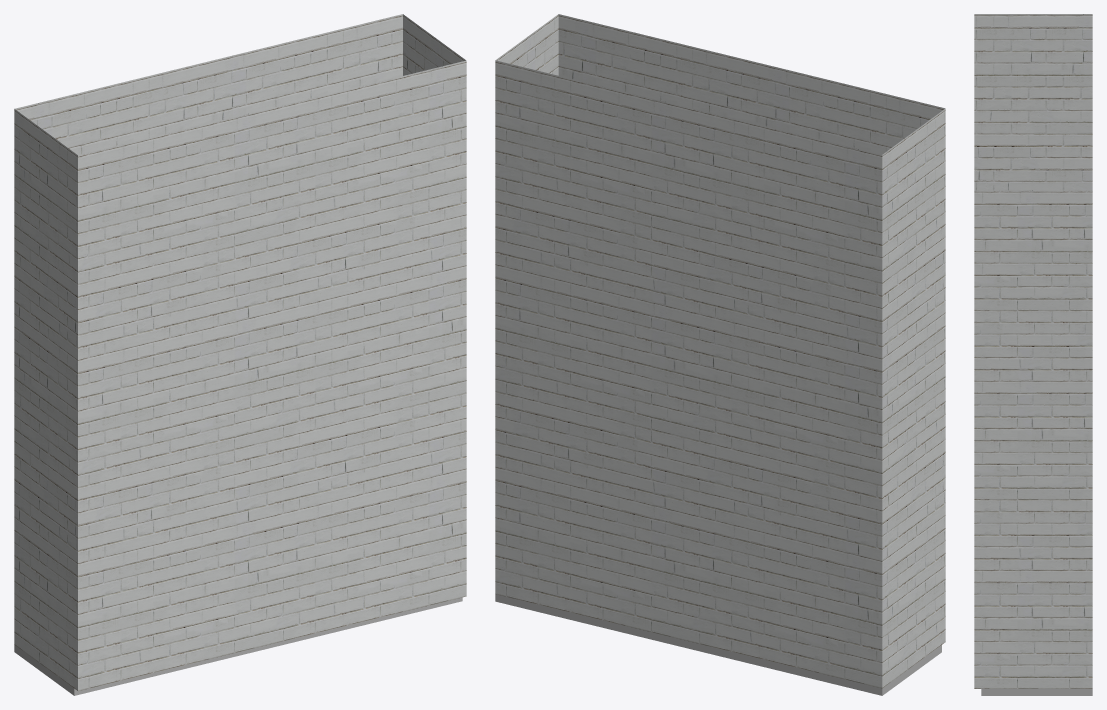
The picture shows the model from 3 angles, left to right: view 1: azimuth 30°, elevation 25°; view 2: azimuth 150°, elevation 25°; view 3: azimuth 270°, elevation 25°; orthographic projection. The views are drawn at different scales.
Parts seen in each view (by area): view 1: M_W_014_a_6x8; view 2: M_W_014_a_6x8; view 3: M_W_014_a_6x8.
Boxes of the visible parts, x1,y1,x2,y2 form: M_W_014_a_6x8: (14, 14, 466, 695); M_W_014_a_6x8: (495, 14, 945, 695); M_W_014_a_6x8: (974, 14, 1092, 695).
Size of the model in its own units: 6 by 8.02 by 1.7.
